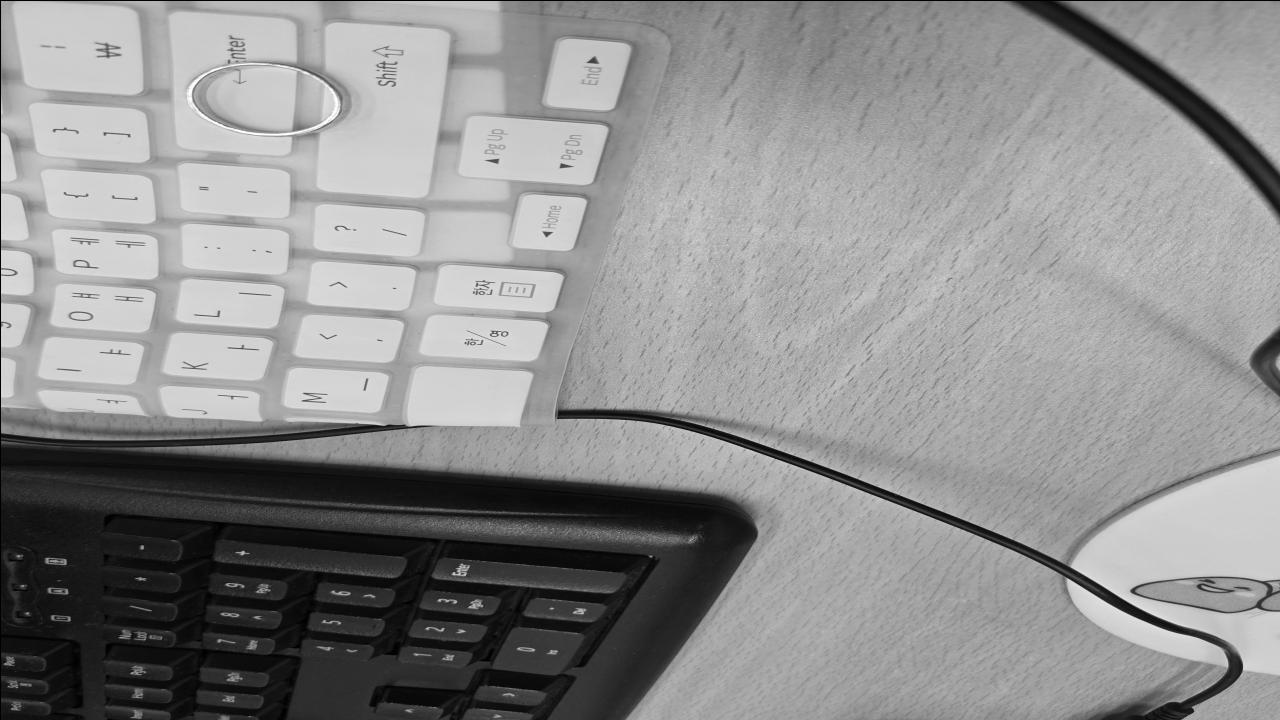ring: (184, 59, 356, 138)
